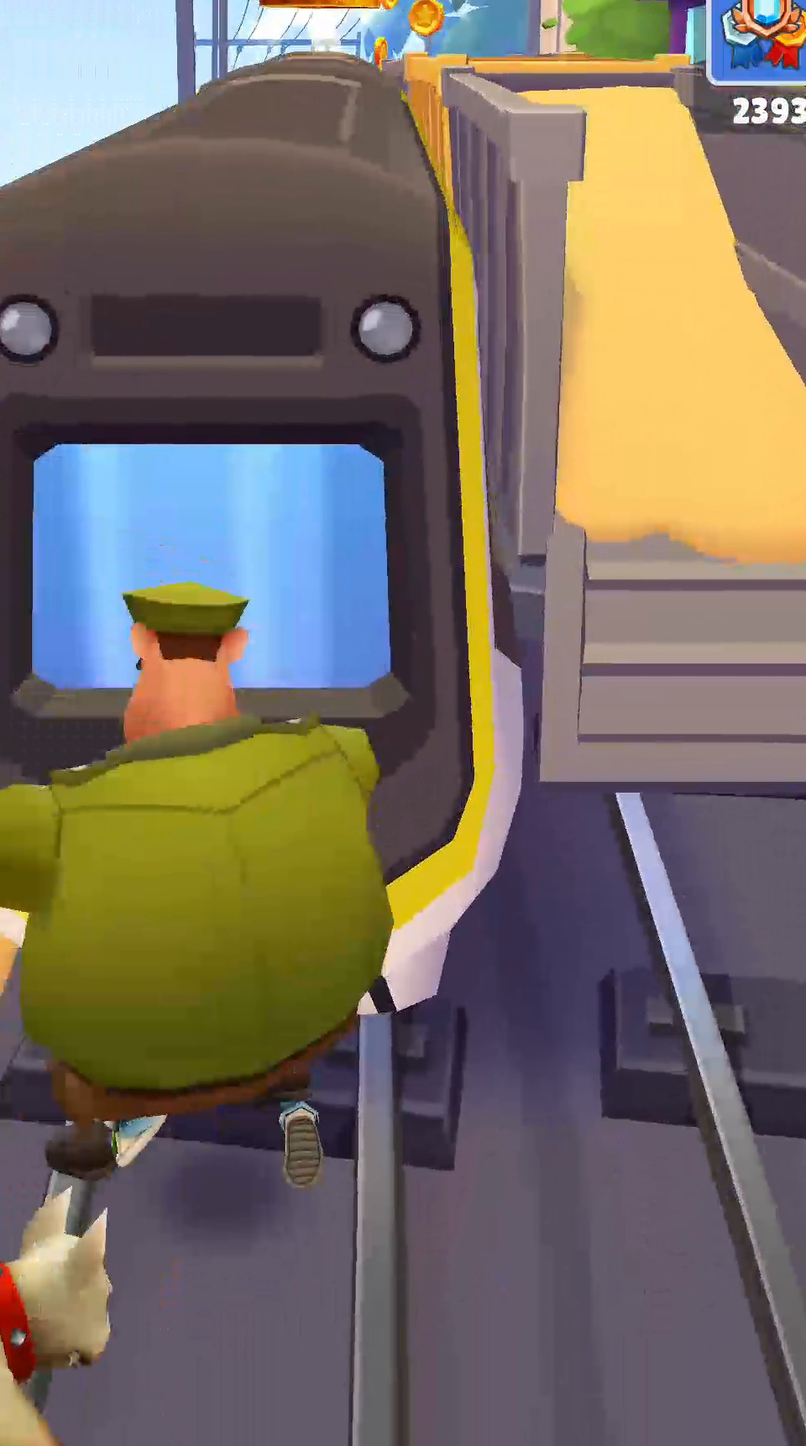climber: (540, 88, 805, 793)
police: (0, 583, 392, 1184)
train: (0, 52, 522, 1009), (404, 57, 466, 201)
